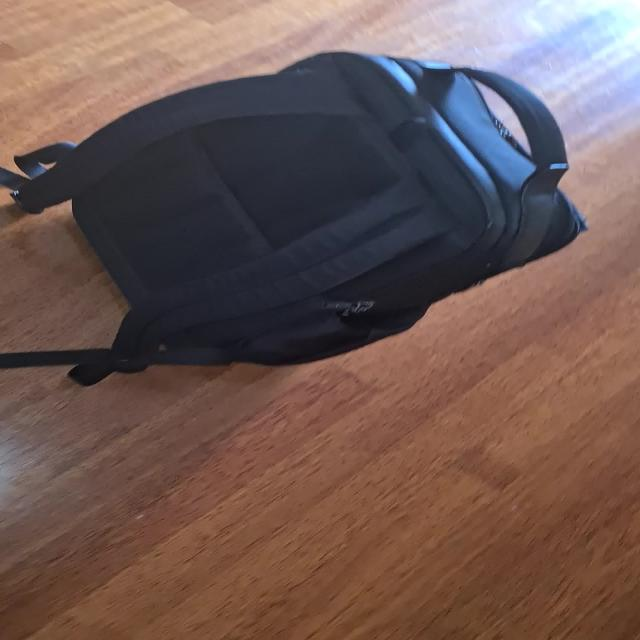backpack: (12, 37, 600, 378)
